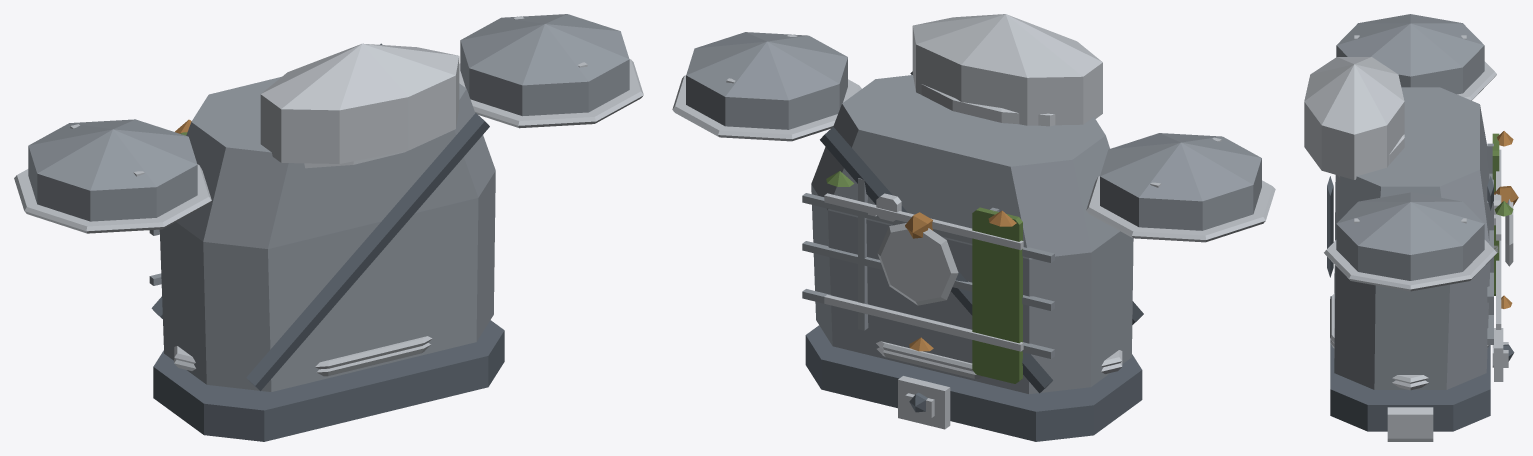
Rendered from armor_bow_s3.fbx.
3 views of the same model, side by side, from view 1: azimuth 30°, elevation 25°; view 2: azimuth 150°, elevation 25°; view 3: azimuth 270°, elevation 25° (orthographic). The views are drawn at different scales.
Visible parts, largest first — view 1: Chest_Body, Chest_Inner, Chest_Trim, Shoulder_L_Body, Shoulder_R_Body, Shoulder_L_Trim, Shoulder_R_Trim, Chest_Trim_Ep; view 2: Chest_Body, Chest_Trim, Chest_Inner, Shoulder_L_Body, Shoulder_R_Body, Chest_Attach, Shoulder_L_Trim, Shoulder_R_Trim, Chest_Trim_Ep; view 3: Chest_Body, Chest_Trim, Shoulder_R_Body, Shoulder_L_Body, Chest_Inner, Shoulder_R_Trim, Chest_Attach, Shoulder_L_Trim, Chest_Trim_Ep, Chest_Gem_Ep, Chest_Gem.
Part boxes in pixels (left/top/right/bottom): Chest_Body: left=149, top=76, right=495, bottom=391; Chest_Inner: left=151, top=43, right=504, bottom=441; Chest_Trim: left=174, top=43, right=459, bottom=376; Shoulder_L_Body: left=28, top=119, right=197, bottom=221; Shoulder_R_Body: left=460, top=14, right=629, bottom=116; Shoulder_L_Trim: left=14, top=124, right=211, bottom=233; Shoulder_R_Trim: left=459, top=16, right=643, bottom=128; Chest_Trim_Ep: left=174, top=336, right=432, bottom=369; Chest_Body: left=802, top=75, right=1133, bottom=394; Chest_Trim: left=824, top=14, right=1122, bottom=429; Chest_Inner: left=805, top=71, right=1143, bottom=441; Shoulder_L_Body: left=1100, top=133, right=1261, bottom=230; Shoulder_R_Body: left=686, top=32, right=847, bottom=129; Chest_Attach: left=826, top=171, right=1022, bottom=383; Shoulder_L_Trim: left=1086, top=137, right=1275, bottom=242; Shoulder_R_Trim: left=672, top=34, right=861, bottom=141; Chest_Trim_Ep: left=876, top=341, right=1122, bottom=371; Chest_Body: left=1334, top=87, right=1493, bottom=389; Chest_Trim: left=1304, top=57, right=1513, bottom=441; Shoulder_R_Body: left=1336, top=192, right=1484, bottom=280; Shoulder_L_Body: left=1336, top=14, right=1484, bottom=94; Chest_Inner: left=1327, top=176, right=1514, bottom=431; Shoulder_R_Trim: left=1324, top=218, right=1496, bottom=291; Chest_Attach: left=1492, top=133, right=1513, bottom=295; Shoulder_L_Trim: left=1354, top=35, right=1496, bottom=100; Chest_Trim_Ep: left=1330, top=293, right=1428, bottom=383; Chest_Gem_Ep: left=1497, top=131, right=1513, bottom=308; Chest_Gem: left=1494, top=186, right=1518, bottom=205.
Bounding box in the file's own units: 446 × 261 × 161.
